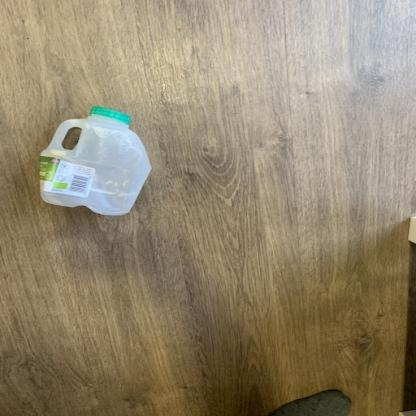trash: (36, 105, 159, 220)
